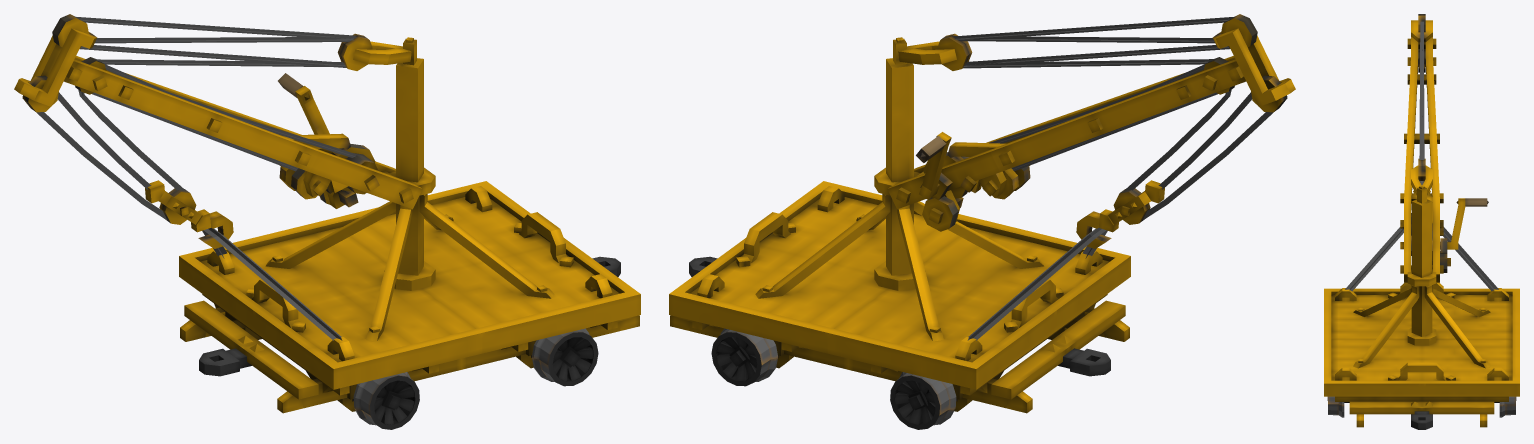
File: mow_tscart_crane.obj
3 views of the same model, side by side, from view 1: azimuth 30°, elevation 25°; view 2: azimuth 150°, elevation 25°; view 3: azimuth 270°, elevation 25° (orthographic). The views are drawn at different scales.
Visible parts, largest first — view 1: Cube.053_Cube.1223, Cube.004_Cube.002, Cube.049_Cube.1222, Cube.028_Cube.025, Cube.002_Cube, Cube.308_Cube.1081, Cube.035_Cube.1208, Cube.033_Cube.026, Cube.013_Cube.011, FRAME_WHEEL_1.001_Circle.011, FRAME_WHEEL_2.005_Circle.022, Cube.008_Cube.007 (+7 smaller); view 2: Cube.053_Cube.1223, Cube.004_Cube.002, Cube.049_Cube.1222, Cube.028_Cube.025, Cube.308_Cube.1081, Cube.002_Cube, Cube.035_Cube.1208, Cube.013_Cube.011, Cube.033_Cube.026, FRAME_WHEEL_1.001_Circle.011, FRAME_WHEEL_2.005_Circle.022, Cube.008_Cube.007 (+6 smaller); view 3: Cube.053_Cube.1223, Cube.004_Cube.002, Cube.308_Cube.1081, Cube.002_Cube, Cube.049_Cube.1222, Cube.035_Cube.1208, Cube.006_Cube.027, Cube.063_Cube.1224, Cube.013_Cube.011, Cube.008_Cube.007, Cube.044_Cube.1218, Cube.028_Cube.025 (+4 smaller).
Part boxes in pixels (x1,y1,x2,y2): Cube.053_Cube.1223: [179, 181, 640, 389]; Cube.004_Cube.002: [63, 55, 422, 209]; Cube.049_Cube.1222: [180, 300, 639, 413]; Cube.028_Cube.025: [74, 16, 356, 171]; Cube.002_Cube: [265, 194, 554, 341]; Cube.308_Cube.1081: [384, 37, 435, 290]; Cube.035_Cube.1208: [14, 14, 311, 165]; Cube.033_Cube.026: [36, 64, 361, 220]; Cube.013_Cube.011: [279, 86, 379, 207]; FRAME_WHEEL_1.001_Circle.011: [353, 372, 419, 429]; FRAME_WHEEL_2.005_Circle.022: [532, 328, 598, 386]; Cube.008_Cube.007: [246, 212, 573, 332]; Cube.053_Cube.1223: [669, 181, 1130, 389]; Cube.004_Cube.002: [887, 55, 1246, 209]; Cube.049_Cube.1222: [670, 300, 1129, 413]; Cube.028_Cube.025: [952, 16, 1235, 171]; Cube.308_Cube.1081: [874, 37, 925, 290]; Cube.002_Cube: [755, 194, 1044, 341]; Cube.035_Cube.1208: [998, 14, 1295, 165]; Cube.013_Cube.011: [919, 132, 1030, 231]; Cube.033_Cube.026: [961, 64, 1273, 220]; FRAME_WHEEL_1.001_Circle.011: [890, 372, 956, 429]; FRAME_WHEEL_2.005_Circle.022: [711, 328, 777, 386]; Cube.008_Cube.007: [736, 212, 1063, 332]; Cube.053_Cube.1223: [1324, 288, 1519, 396]; Cube.004_Cube.002: [1400, 36, 1443, 282]; Cube.308_Cube.1081: [1407, 185, 1436, 345]; Cube.002_Cube: [1353, 285, 1490, 368]; Cube.049_Cube.1222: [1349, 401, 1494, 427]; Cube.035_Cube.1208: [1400, 14, 1443, 203]; Cube.006_Cube.027: [1345, 227, 1498, 291]; Cube.063_Cube.1224: [1335, 396, 1508, 401]; Cube.013_Cube.011: [1400, 196, 1465, 272]; Cube.008_Cube.007: [1388, 282, 1455, 380]; Cube.044_Cube.1218: [1335, 288, 1508, 380]; Cube.028_Cube.025: [1419, 21, 1424, 159].
Bounding box in the file's own units: 3.79 × 2.55 × 1.69.
Materials: 1 (1 with a texture image).
